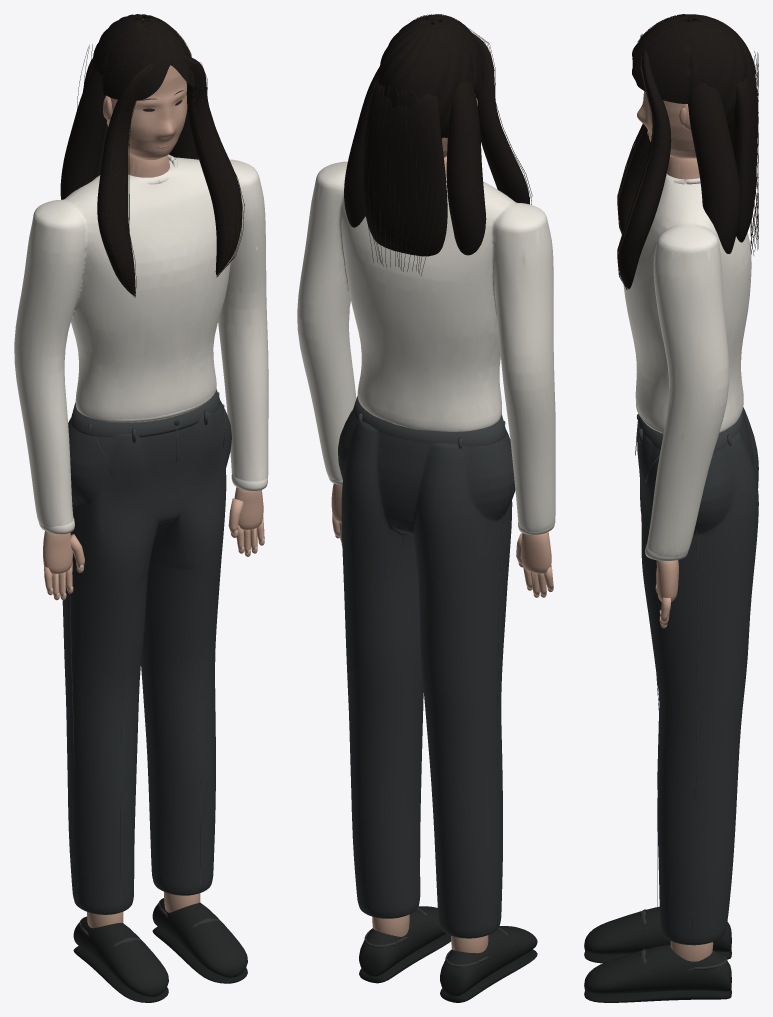
The model's file is woman-fast.glb.
3 views of the same model, side by side, from view 1: azimuth 30°, elevation 25°; view 2: azimuth 150°, elevation 25°; view 3: azimuth 270°, elevation 25° (orthographic). The views are drawn at different scales.
Visible parts, largest first — view 1: DEMIAND original woman 164cm; view 2: DEMIAND original woman 164cm; view 3: DEMIAND original woman 164cm.
Part boxes in pixels (box(x1,y1,x2,y2)): DEMIAND original woman 164cm: box(14, 14, 268, 1002); DEMIAND original woman 164cm: box(297, 14, 555, 1002); DEMIAND original woman 164cm: box(584, 14, 758, 1002).
Size of the model in its own units: 0.4444 by 1.64 by 0.271.
